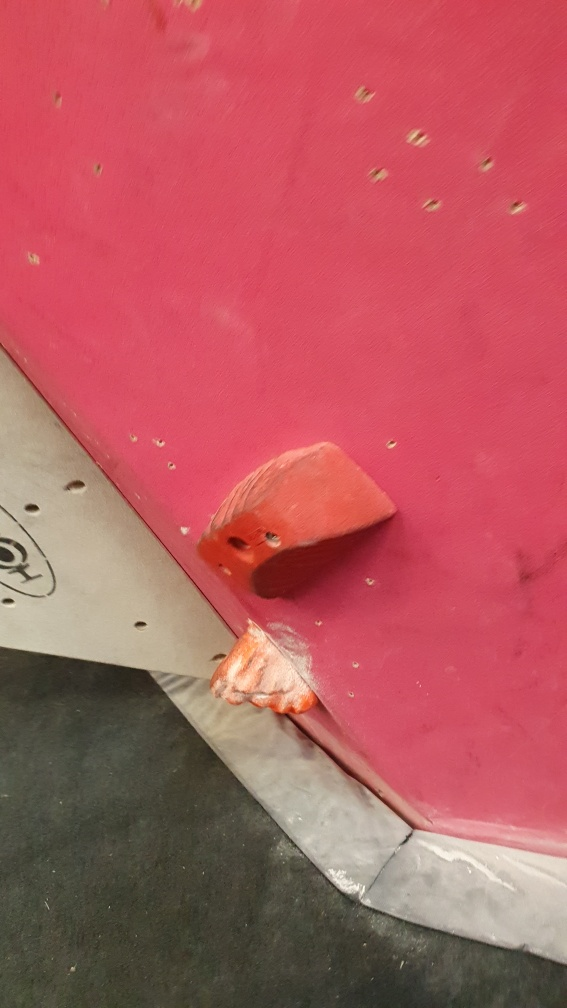Jug: (201, 615, 322, 722)
Pinch: (186, 430, 400, 612)
